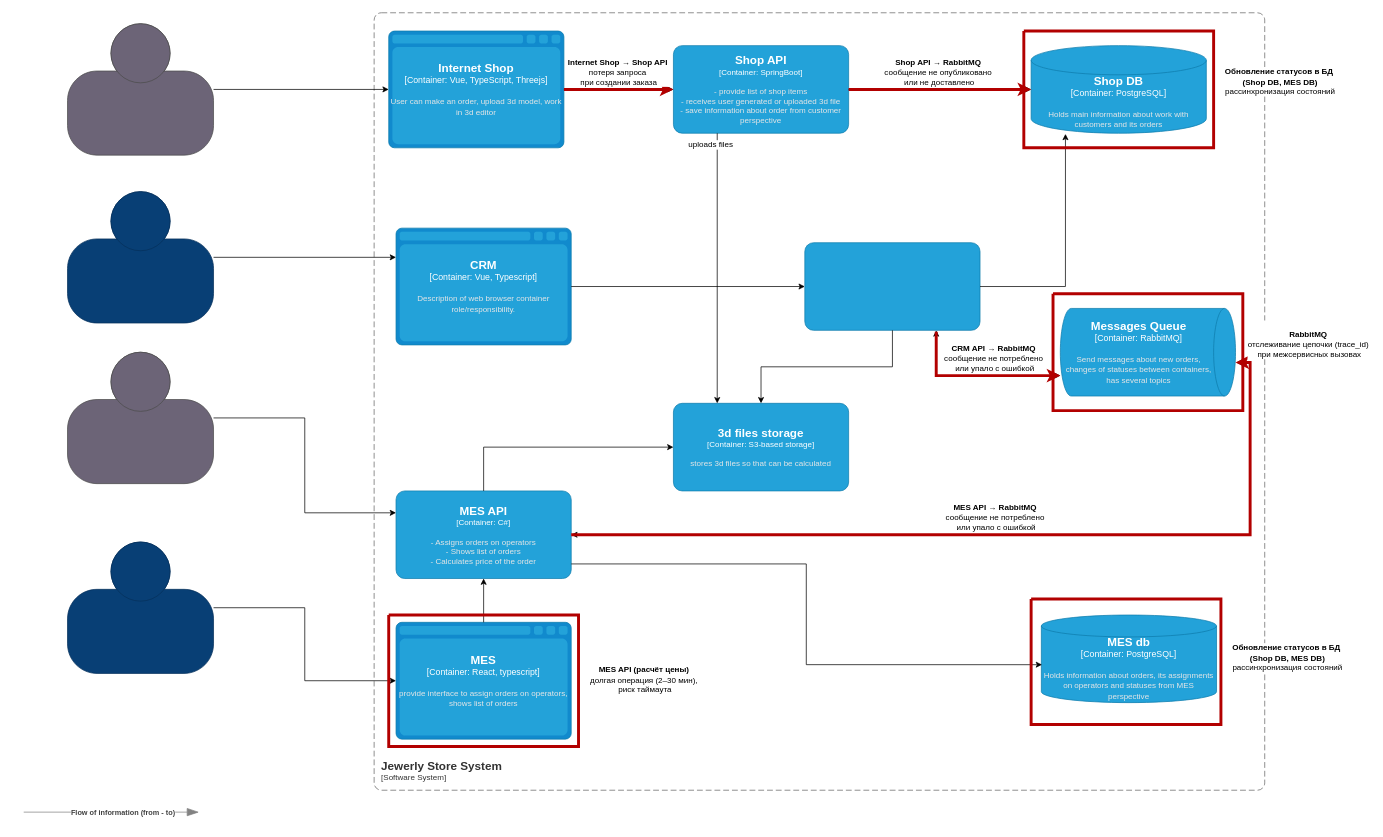
The diagram is 1383 pixels wide and 837 high, and some of its shapes have lost their labels. The shapes that lost their labels are listed below. From the top down, each one's centre as x and y in pixels, then its label:
At pixel 140 89: "Customer [Person] Description of external person.".
At pixel 140 257: "Seller [Person] Operates with order, confirms manufacturing for the user".
At pixel 892 286: "CRM API [Container: SpringBoot] Description of container role/responsibility.".
At pixel 140 417: "API user [Person] Description of external person.".
At pixel 140 607: "Operator [Person] Takes order in work, manufactures jewerly".
